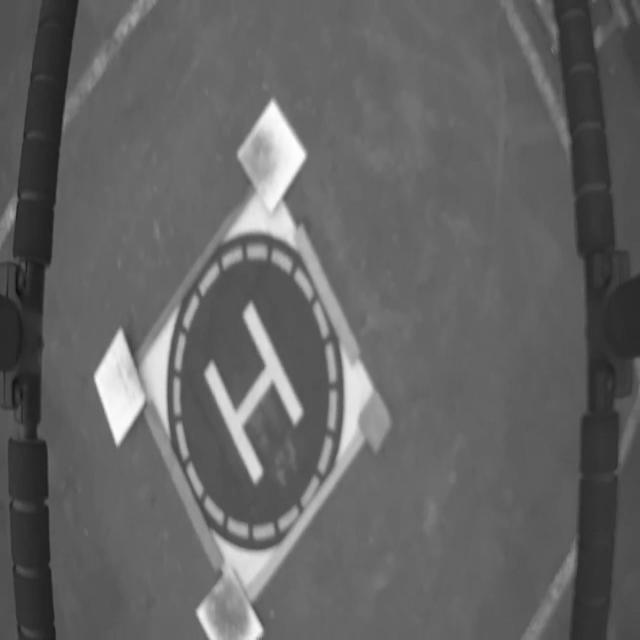Helipad: (202, 302, 304, 488)
